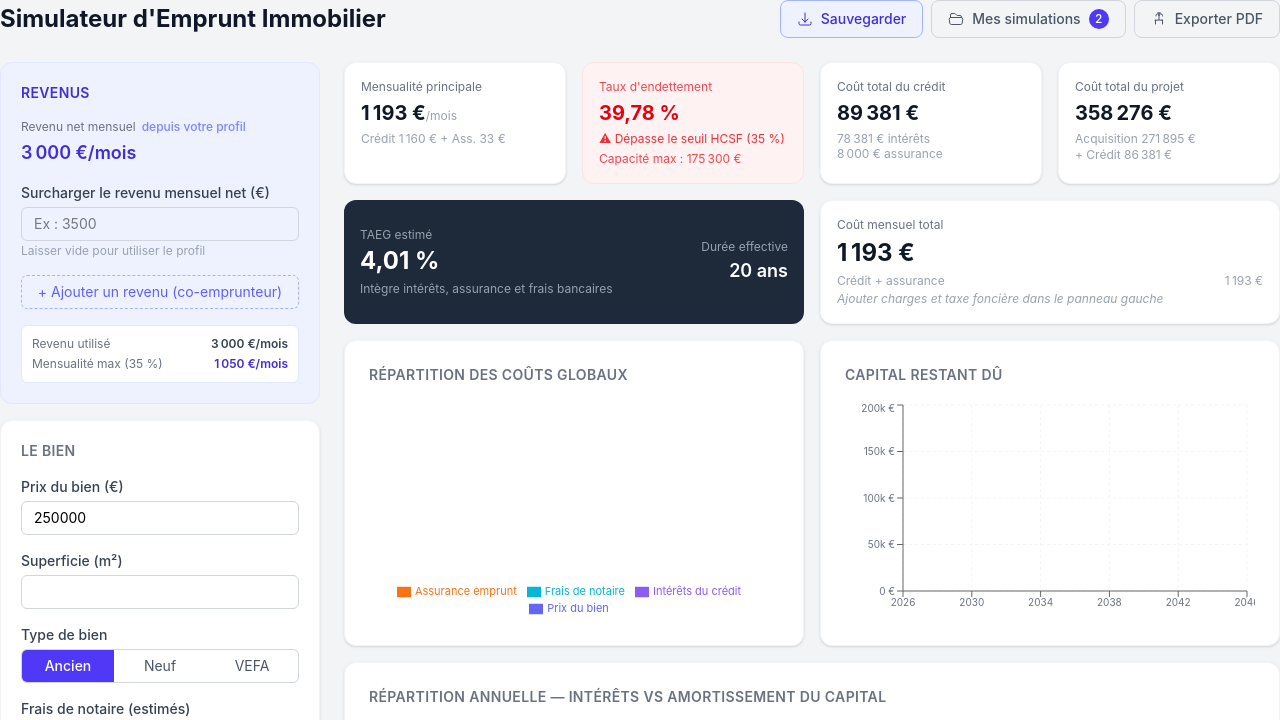
LoanSimulatorPage — gestion des simulations sauvegardées › affiche les simulations dans le panneau "Mes simulations"
Expected: the text "2" is shown, 1089,9 -> 1109,29
What coordinates should you click on to do the following:
click the button "Mes simulations 2"
I would click on:
 (1028, 19)
Its box is 931,0 -> 1126,38.
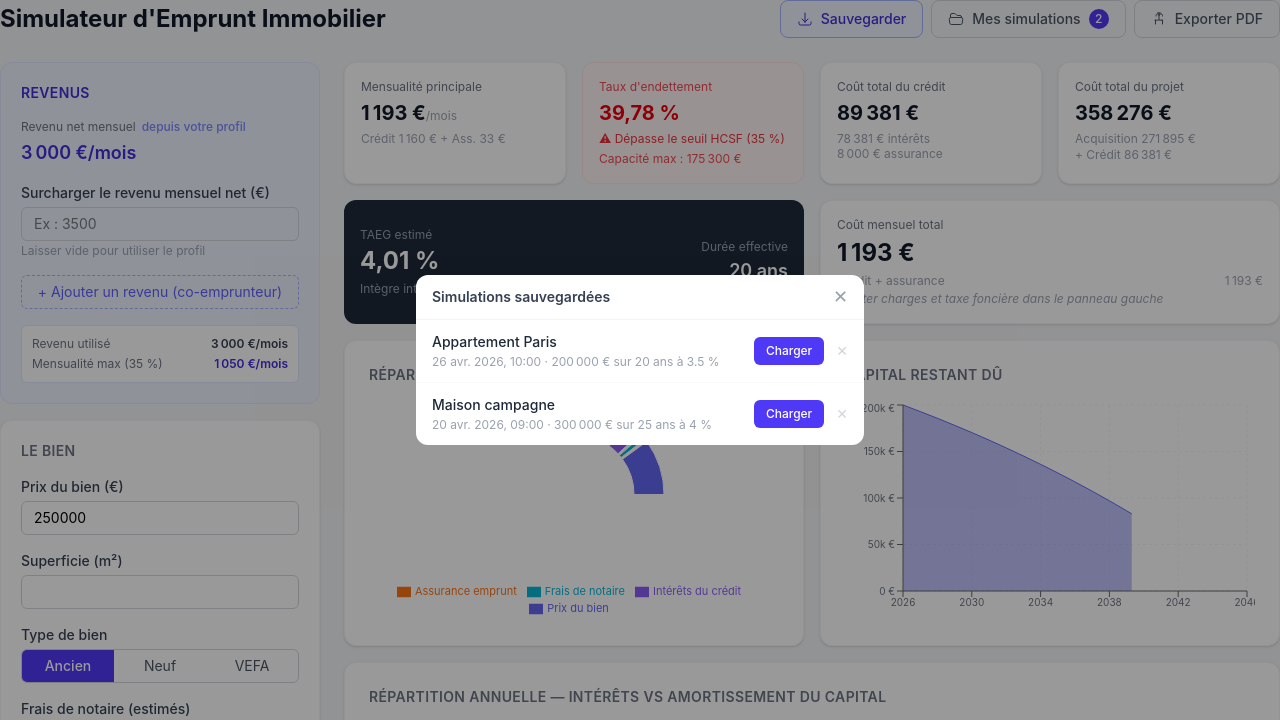
Expected: the text "Appartement Paris" is shown, 432,333 -> 557,350
Expected: the text "Maison campagne" is shown, 432,396 -> 555,413
